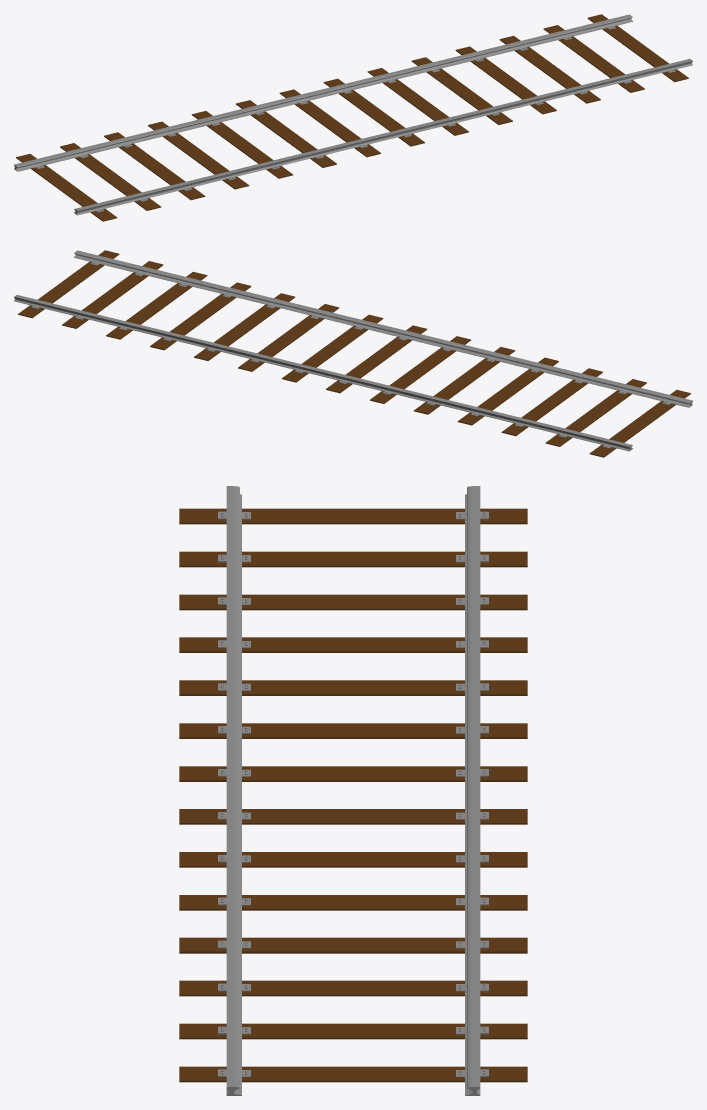
Rendered from TrainTrack 1.fbx.
The picture shows the model from 3 angles, top to bottom: view 1: azimuth 30°, elevation 25°; view 2: azimuth 150°, elevation 25°; view 3: azimuth 270°, elevation 25°; orthographic projection. The views are drawn at different scales.
Visible parts, largest first — view 1: Cube.006; view 2: Cube.006; view 3: Cube.006.
Part boxes in pixels (x1,y1,x2,y2): Cube.006: (14,14,692,221); Cube.006: (14,250,692,457); Cube.006: (179,486,527,1095).
Size of the model in its own units: 2137 by 18.01 by 523.
